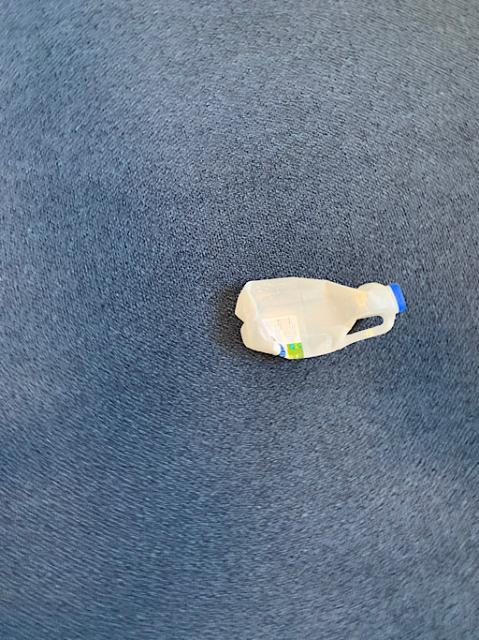plastic: (234, 276, 405, 357)
